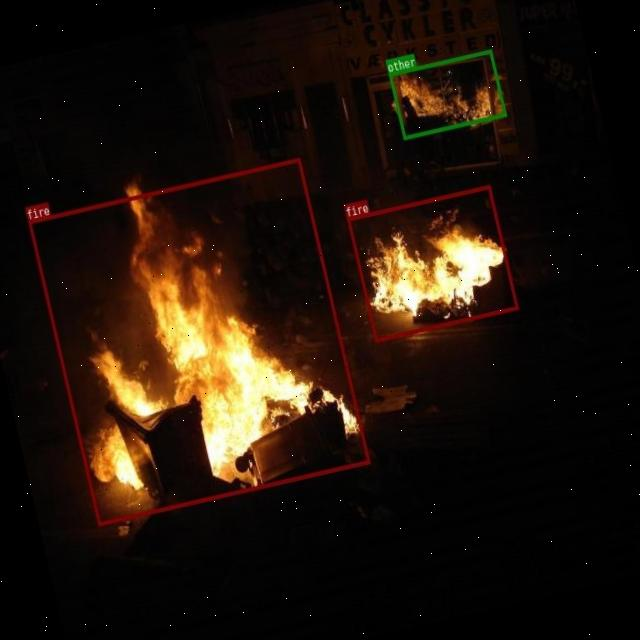fire: (27, 156, 369, 524), (346, 185, 518, 342)
